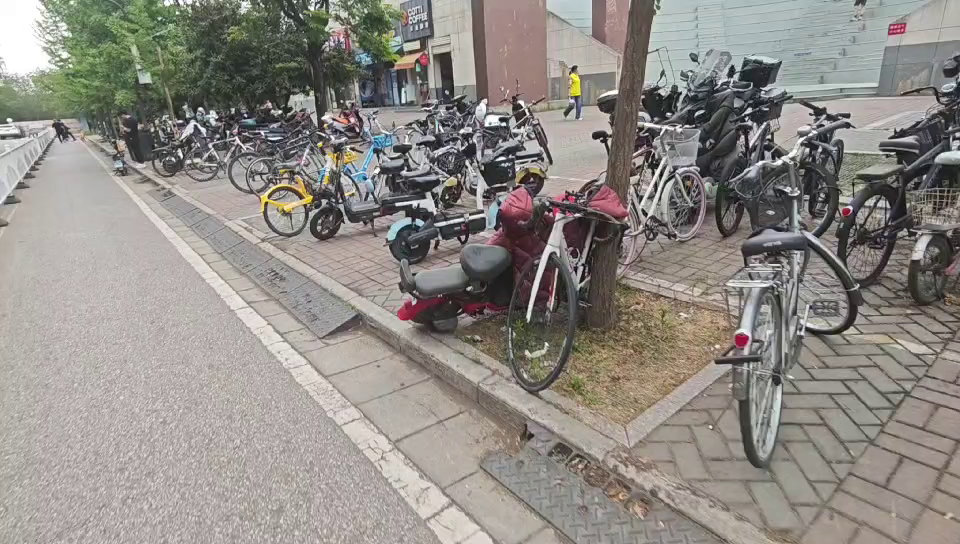others: (721, 120, 863, 482), (380, 209, 610, 339), (507, 179, 637, 407), (851, 61, 947, 285), (576, 115, 716, 268), (392, 146, 517, 244)
shared_bike_haluo: (309, 121, 394, 197)
shared_bike_meituan: (259, 133, 351, 236)
